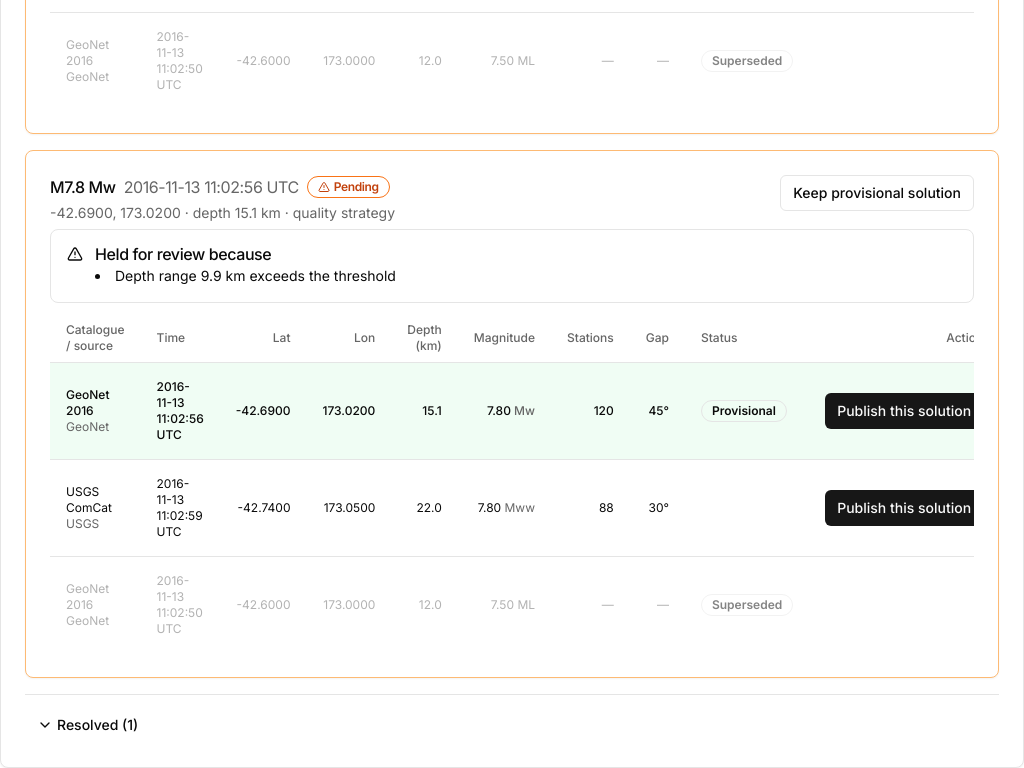
Test: listing › fetches resolved events only when the collapsed list is opened, and shows the decision
(page scrolled)
Click the button "Resolved (1)": (88,725) 25,707 -> 150,743
(page scrolled)
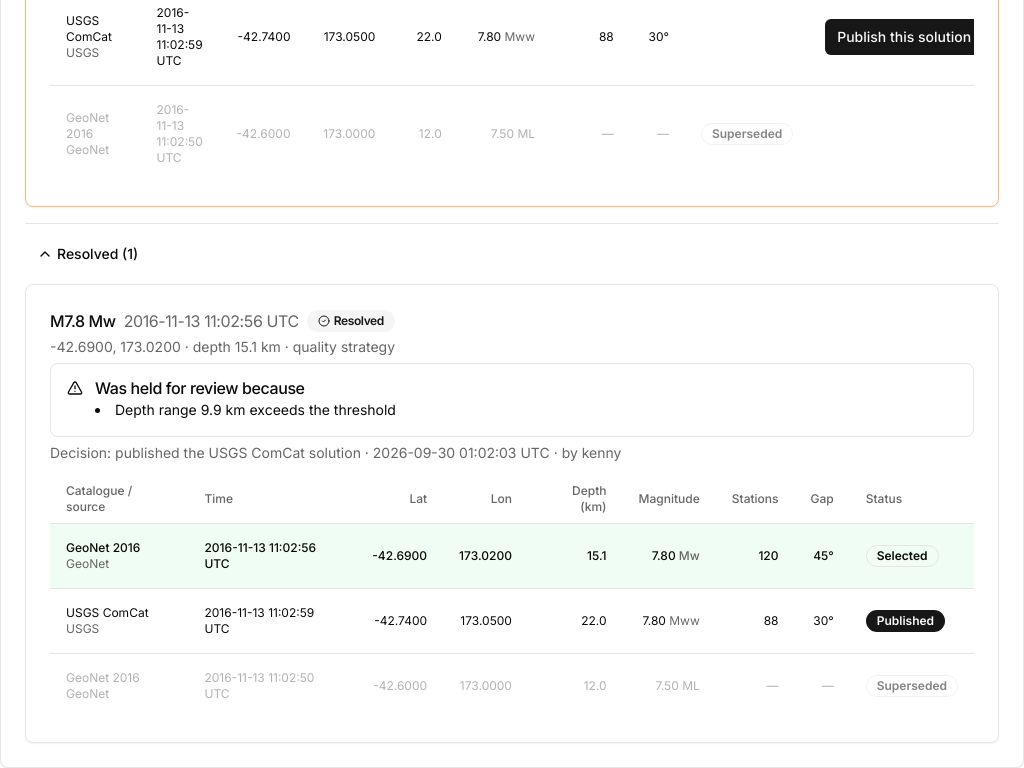
Check: the text with test id "review-decision" shows "Decision: published the USGS ComCat solution", box 50,444 -> 361,461
Check: the text with test id "review-decision" shows "by kenny", box 550,444 -> 622,461
Check: the text "Published" is shown, box 866,610 -> 945,632
